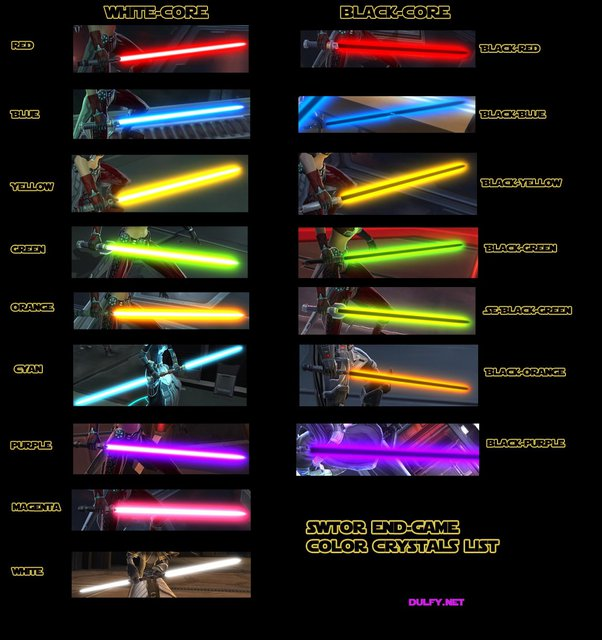lightsaber: (97, 163, 249, 221), (78, 89, 251, 139), (76, 480, 227, 535), (297, 101, 519, 138), (67, 439, 253, 480), (70, 281, 278, 317), (304, 163, 479, 205), (296, 227, 486, 265), (318, 351, 460, 401), (69, 362, 234, 405), (297, 426, 484, 463), (323, 27, 488, 68), (77, 551, 259, 588), (303, 303, 499, 332), (96, 242, 249, 275), (82, 33, 222, 63)
